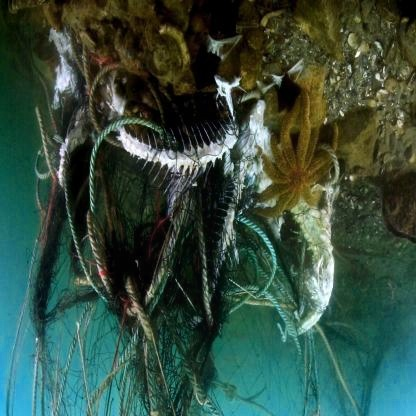net: (49, 52, 272, 416)
